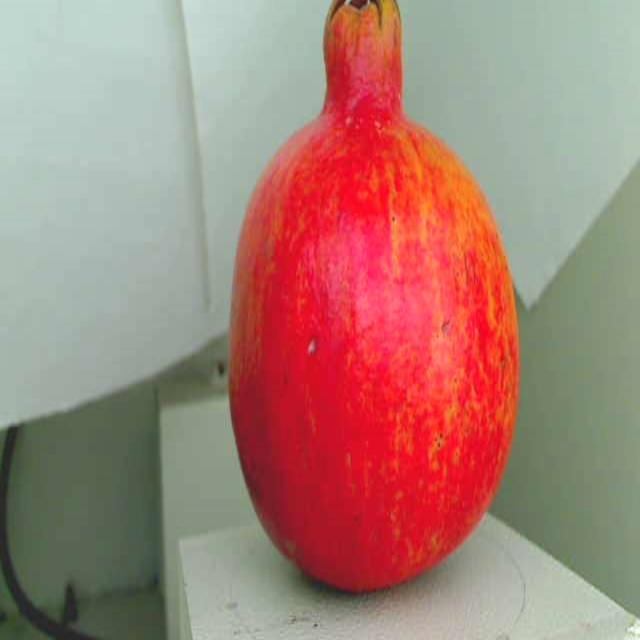pomegranate: (218, 0, 536, 606)
